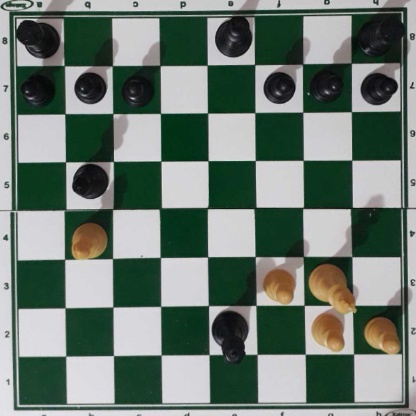black-bishop: (71, 164, 109, 201)
black-king: (214, 14, 254, 59)
black-pawn: (360, 69, 396, 105), (262, 68, 295, 103), (20, 71, 54, 104), (73, 70, 105, 104), (311, 68, 343, 101), (121, 72, 152, 106)
black-queen: (212, 309, 248, 365)
black-rook: (13, 15, 60, 58), (358, 13, 405, 55)
white-bishop: (70, 222, 109, 262)
white-king: (309, 265, 358, 315)
white-pawn: (310, 312, 347, 352), (363, 315, 400, 353), (262, 266, 296, 303)
